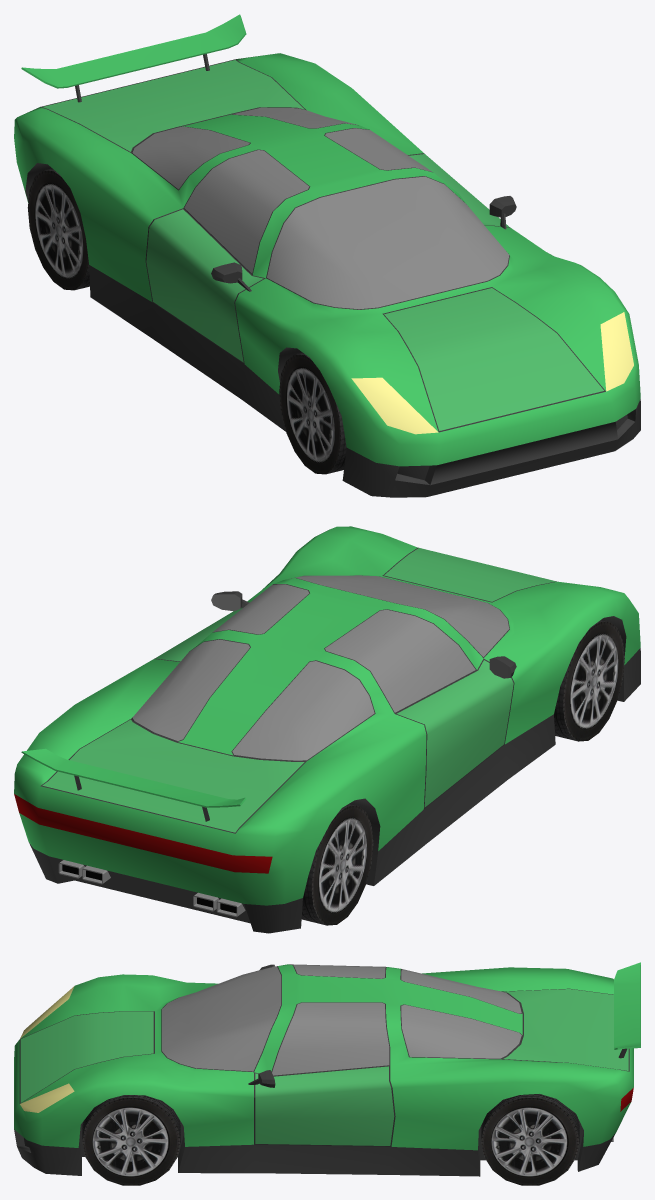
The model's file is Car 14.FBX.
The picture shows the model from 3 angles, top to bottom: view 1: azimuth 30°, elevation 25°; view 2: azimuth 150°, elevation 25°; view 3: azimuth 270°, elevation 25°; orthographic projection. The views are drawn at different scales.
Visible parts, largest first — view 1: Car 14; view 2: Car 14; view 3: Car 14.
Part boxes in pixels (x1,y1,x2,y2): Car 14: (14,14,640,497); Car 14: (14,526,640,933); Car 14: (14,962,640,1185).
Size of the model in its own units: 2.14 by 1.22 by 4.88.
